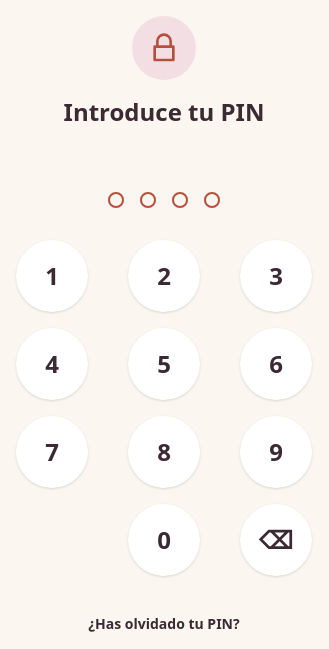
Test case: Pantalla de bloqueo › tras agotar los intentos obliga a esperar y bloquea el teclado
Click the button "0". click: (164, 540)
box: [128,504,200,576]
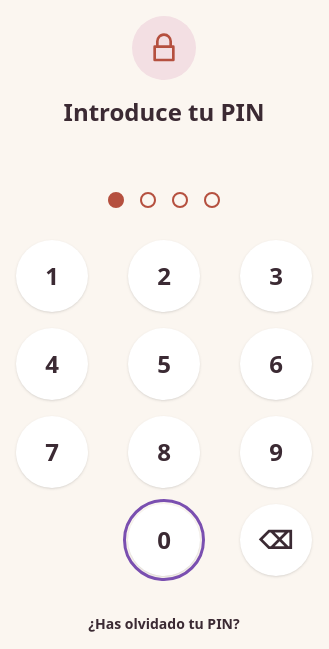
Click the button "0". click: (164, 540)
box: [128,504,200,576]
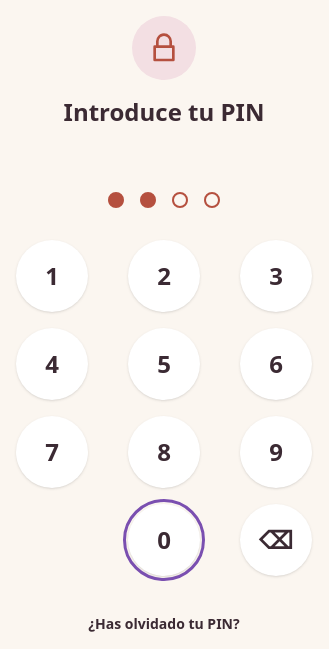
Click the button "0". click: (164, 540)
box: [128,504,200,576]
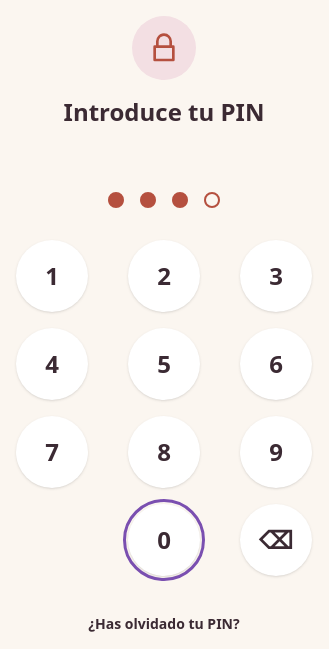
Click the button "0". click: (164, 540)
box: [128,504,200,576]
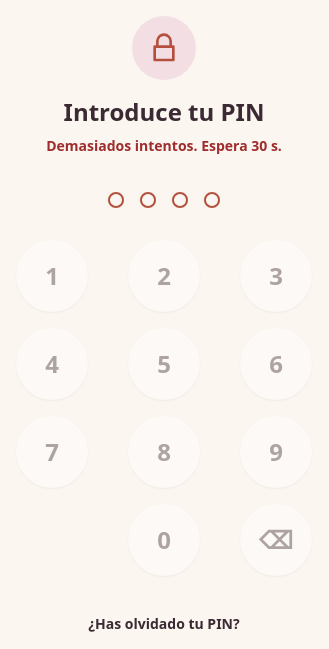
Result: the text "Demasiados intentos. Espera 30 s." is shown at [46,136,282,155]
Result: the button named "Dígito 2" is disabled at [128,240,200,312]
